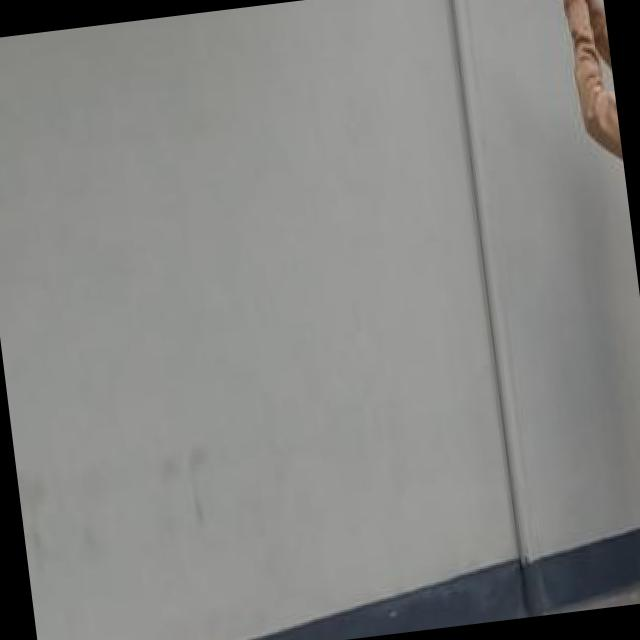Guns: (541, 0, 602, 14)
